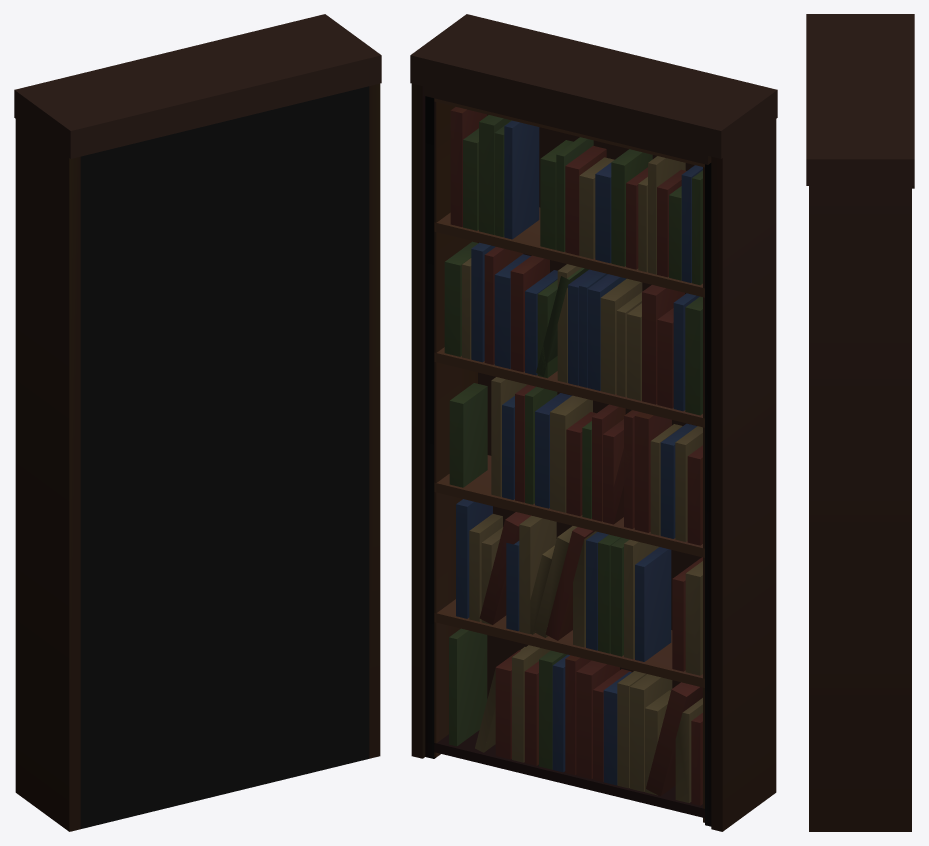
File: secret_door.glb
3 views of the same model, side by side, from view 1: azimuth 30°, elevation 25°; view 2: azimuth 150°, elevation 25°; view 3: azimuth 270°, elevation 25° (orthographic). The views are drawn at different scales.
Parts seen in each view (by area): view 1: passage, secret_door; view 2: leaf, secret_door, passage; view 3: secret_door.
Part boxes in pixels (box(x1,y1,x2,y2)): passage: box(80, 86, 369, 828); secret_door: box(14, 14, 381, 831); leaf: box(423, 86, 711, 822); secret_door: box(410, 14, 777, 831); passage: box(425, 96, 711, 826); secret_door: box(806, 14, 914, 831).
Bounding box in the file's own units: 1.4 × 3.02 × 0.44.
